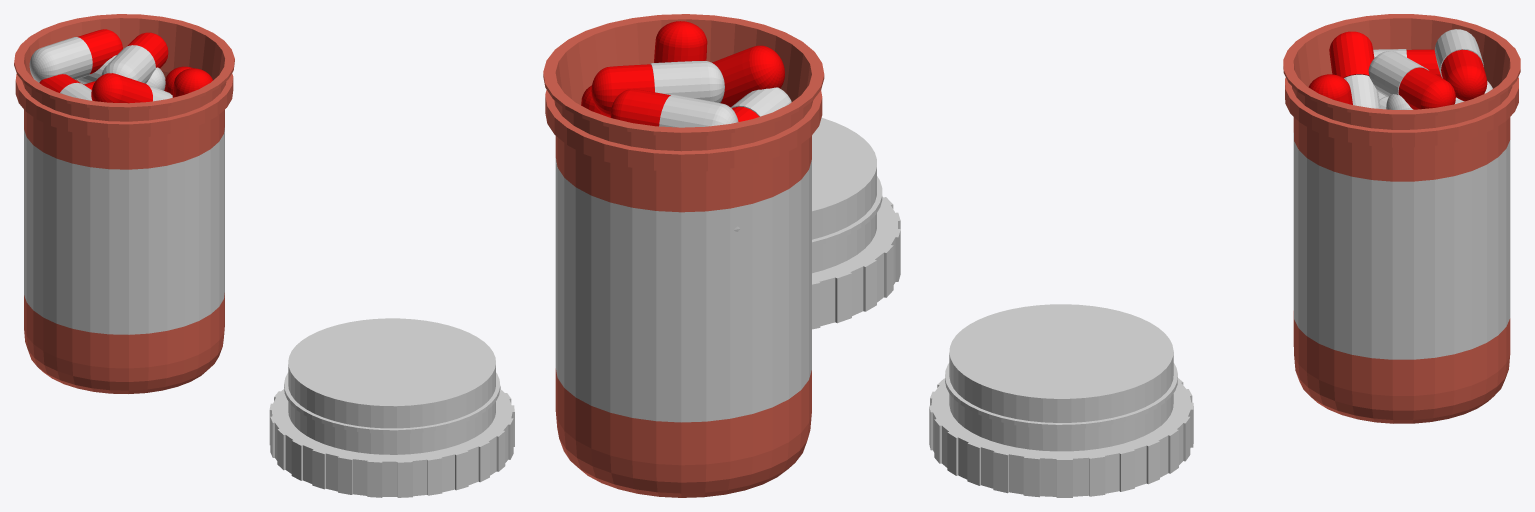
File: Pill Bottle-transformed.glb
3 renders of one model, left to right at view 1: azimuth 30°, elevation 25°; view 2: azimuth 150°, elevation 25°; view 3: azimuth 270°, elevation 25°, orthographic. The views are drawn at different scales.
Visible parts, largest first — view 1: Capsule090, Cylinder004, Capsule099; view 2: Capsule090, Cylinder004, Capsule099; view 3: Capsule090, Cylinder004, Capsule099.
Boxes of the visible parts, x1,y1,x2,y2 form: Capsule090: (24,37,514,497); Cylinder004: (14,14,234,393); Capsule099: (39,29,212,103); Capsule090: (555,61,900,422); Cylinder004: (543,14,824,497); Capsule099: (581,21,784,126); Capsule090: (929,29,1510,497); Cylinder004: (1283,14,1520,423); Capsule099: (1308,31,1487,109).
Bounding box in the file's own units: 297861 × 282868 × 454485.
